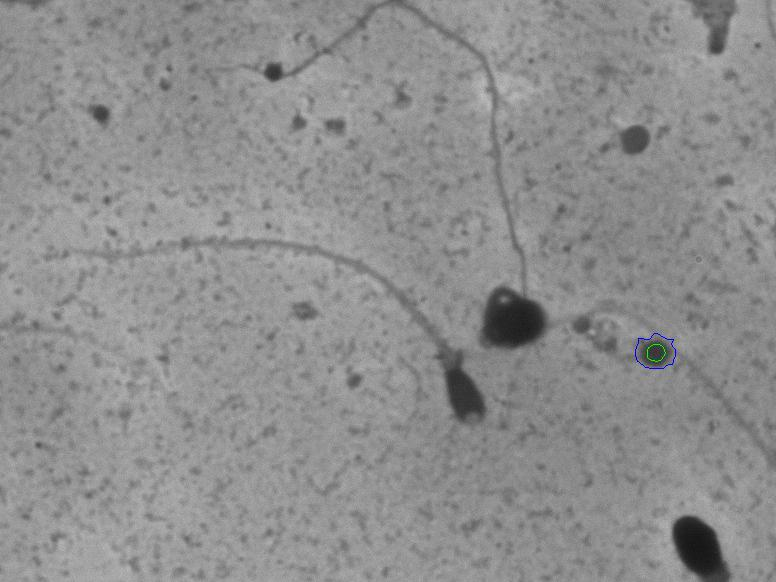Abnormal: (22, 233, 497, 438), (469, 272, 582, 370)
